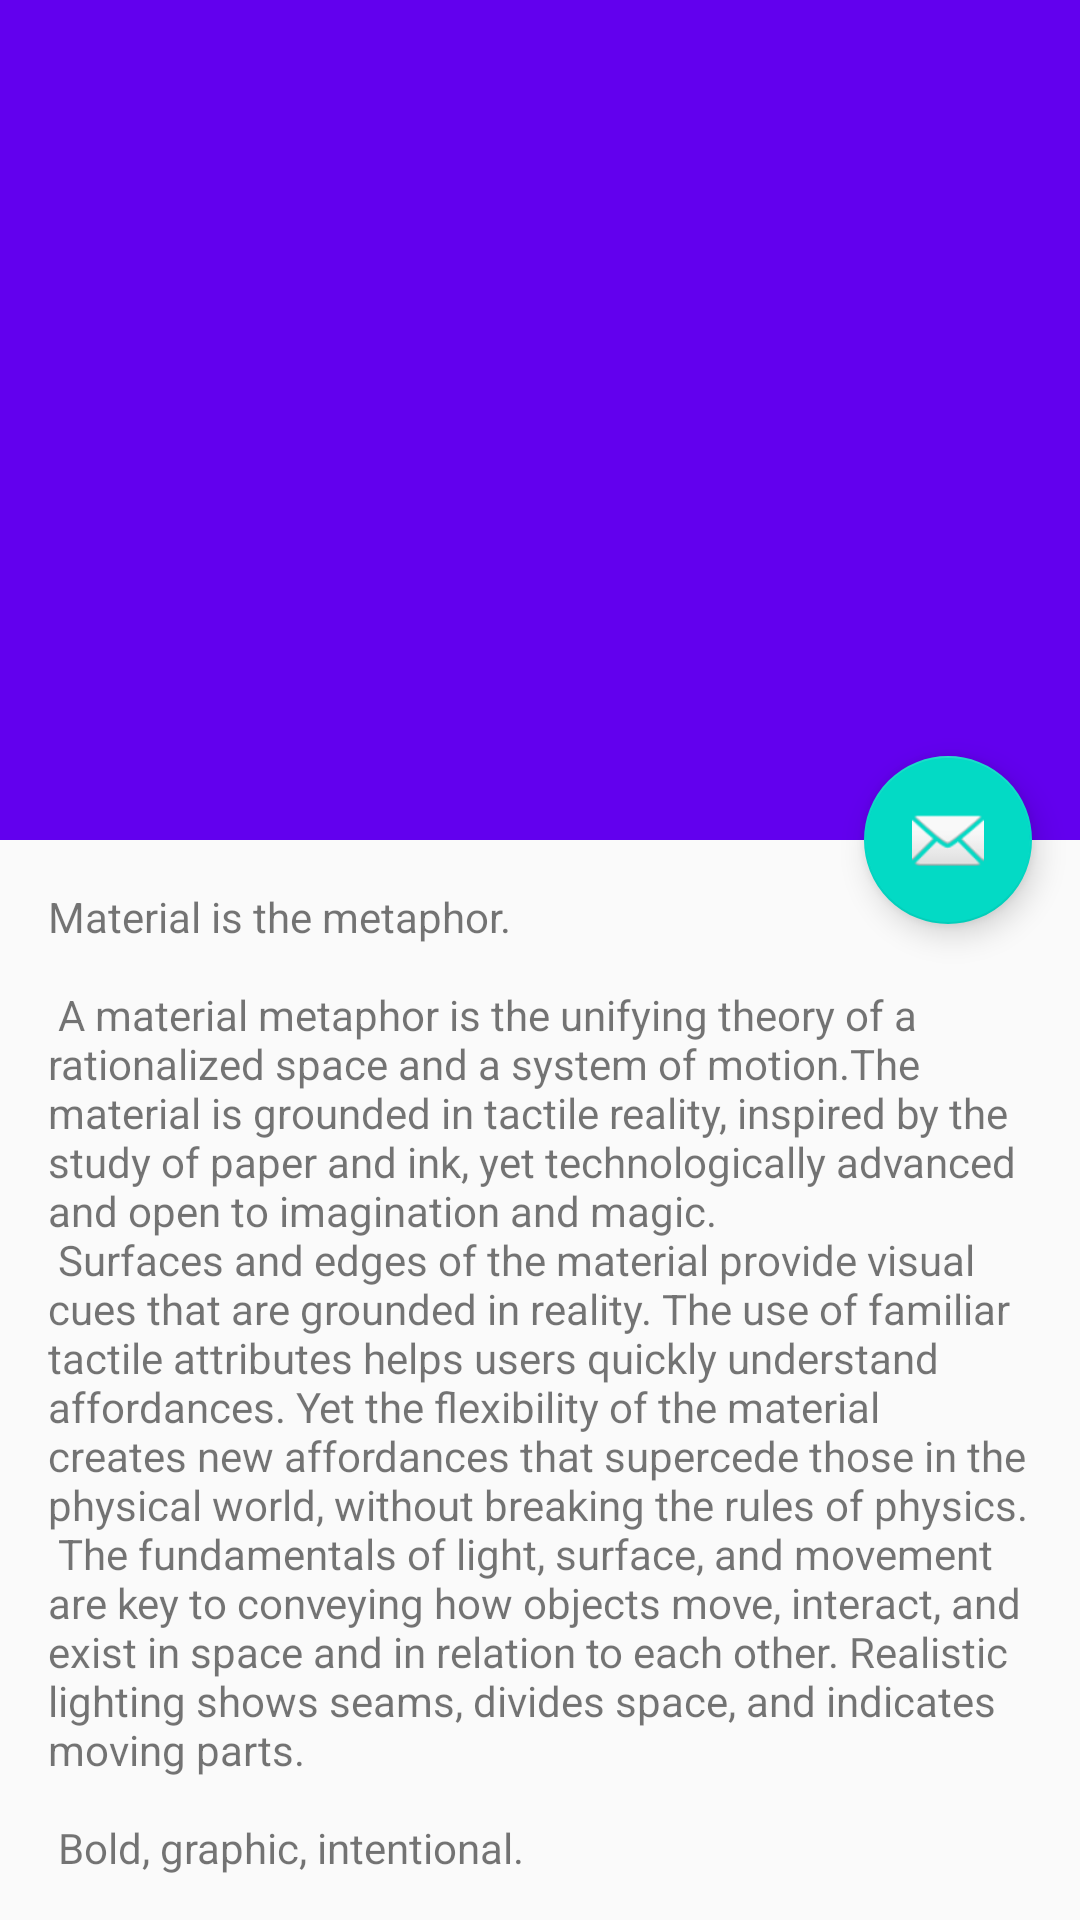

Where to tap for icons on this 1080px×1920px app screen, as [x,y]:
email: [948,840]
